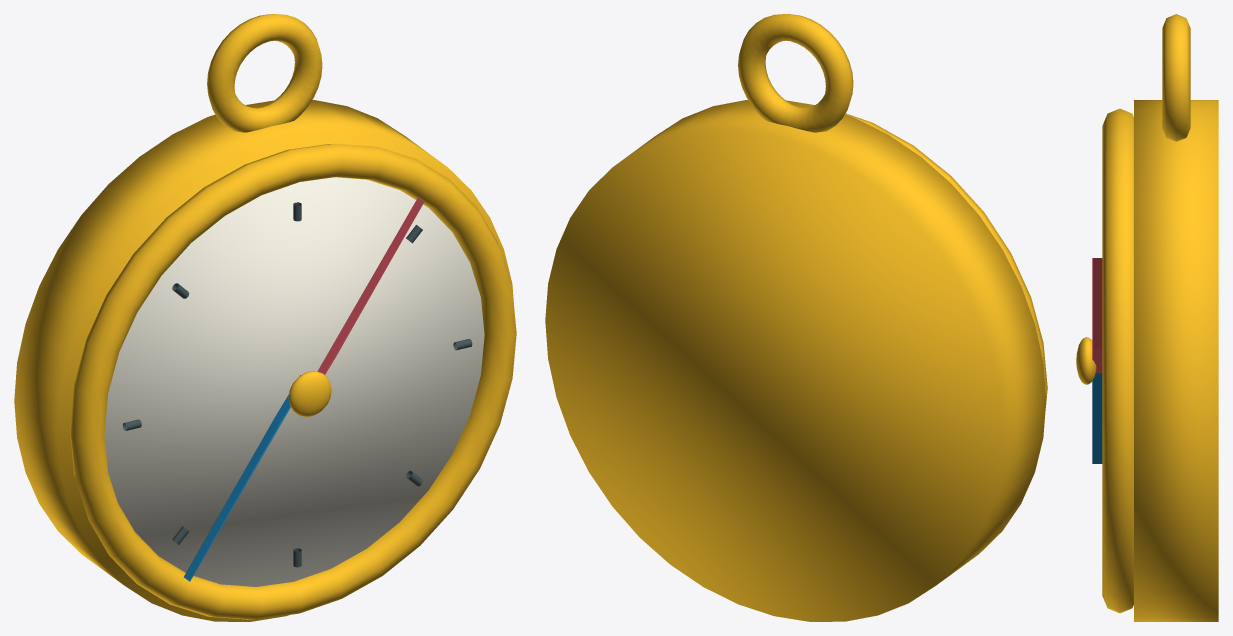
Rendered from compass.glb.
3 views of the same model, side by side, from view 1: azimuth 30°, elevation 25°; view 2: azimuth 150°, elevation 25°; view 3: azimuth 270°, elevation 25° (orthographic).
Parts seen in each view (by area): view 1: compass; view 2: compass; view 3: compass.
Part boxes in pixels (x1,y1,x2,y2): compass: (14,14,516,621); compass: (545,14,1047,621); compass: (1076,14,1218,621).
Bounding box in the file's own units: 0.74 × 0.903 × 0.2019.
